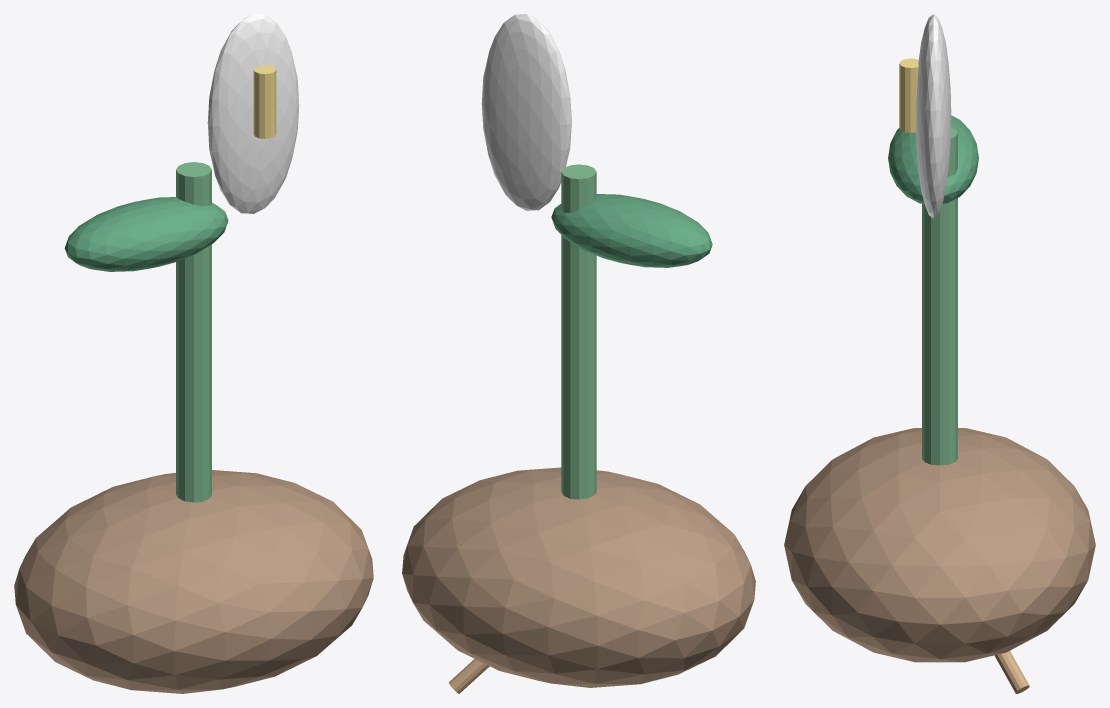
File: plant.glb
3 views of the same model, side by side, from view 1: azimuth 30°, elevation 25°; view 2: azimuth 150°, elevation 25°; view 3: azimuth 270°, elevation 25° (orthographic).
Parts seen in each view (by area): view 1: soil, white_spathe, main_stem, leaf, spadix; view 2: soil, white_spathe, main_stem, leaf, root; view 3: soil, main_stem, white_spathe, leaf, spadix, root.
Boxes of the visible parts, x1=… form: soil: x1=14, y1=470, x2=373, y2=693; white_spathe: x1=207, y1=14, x2=299, y2=213; main_stem: x1=176, y1=162, x2=211, y2=502; leaf: x1=64, y1=197, x2=228, y2=271; spadix: x1=253, y1=65, x2=276, y2=138; soil: x1=402, y1=467, x2=755, y2=687; white_spathe: x1=481, y1=14, x2=571, y2=210; main_stem: x1=561, y1=164, x2=596, y2=499; leaf: x1=551, y1=194, x2=712, y2=267; root: x1=448, y1=659, x2=489, y2=693; soil: x1=784, y1=428, x2=1095, y2=662; main_stem: x1=922, y1=127, x2=957, y2=465; white_spathe: x1=916, y1=14, x2=951, y2=218; leaf: x1=888, y1=115, x2=978, y2=204; spadix: x1=899, y1=58, x2=918, y2=132; root: x1=994, y1=651, x2=1029, y2=693.
Size of the model in its own units: 1.28 by 2.5 by 1.06.
